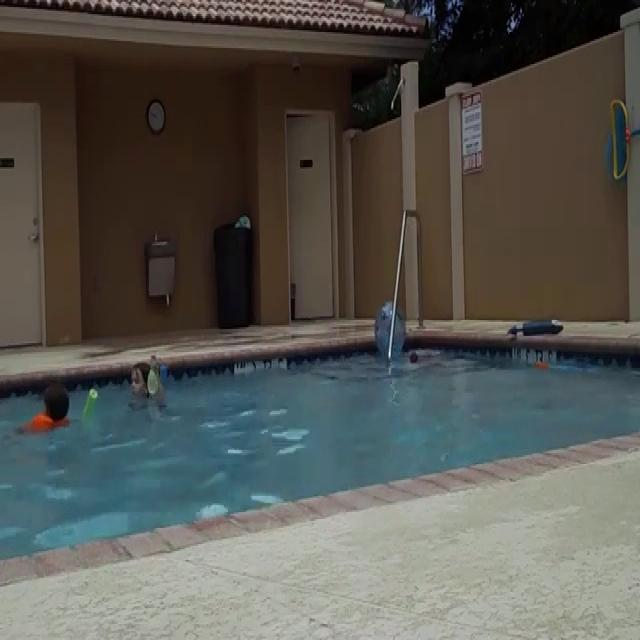child: (124, 349, 164, 418), (33, 382, 74, 442)
